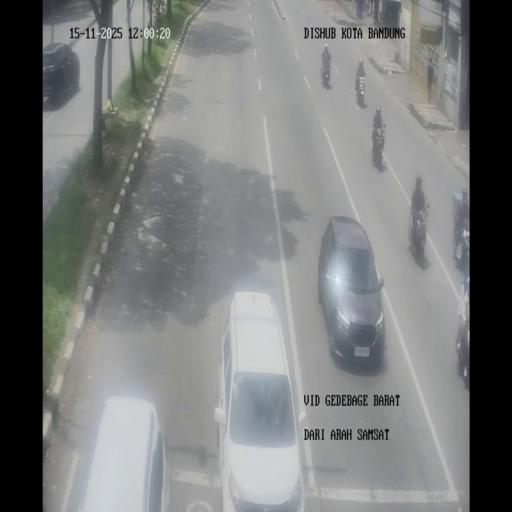car: (216, 290, 305, 505), (72, 396, 169, 512), (319, 216, 385, 364), (42, 42, 80, 106)
motorcycle: (408, 202, 429, 260), (452, 211, 470, 271), (456, 321, 470, 388), (370, 124, 386, 168), (355, 73, 366, 104), (321, 55, 331, 87), (364, 1, 370, 17), (378, 10, 384, 22)
